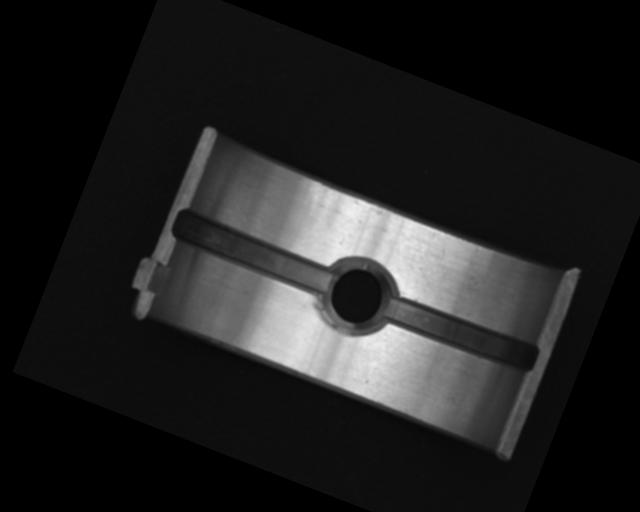gap: (168, 203, 337, 300), (380, 290, 541, 376)
hole: (307, 243, 408, 349)
